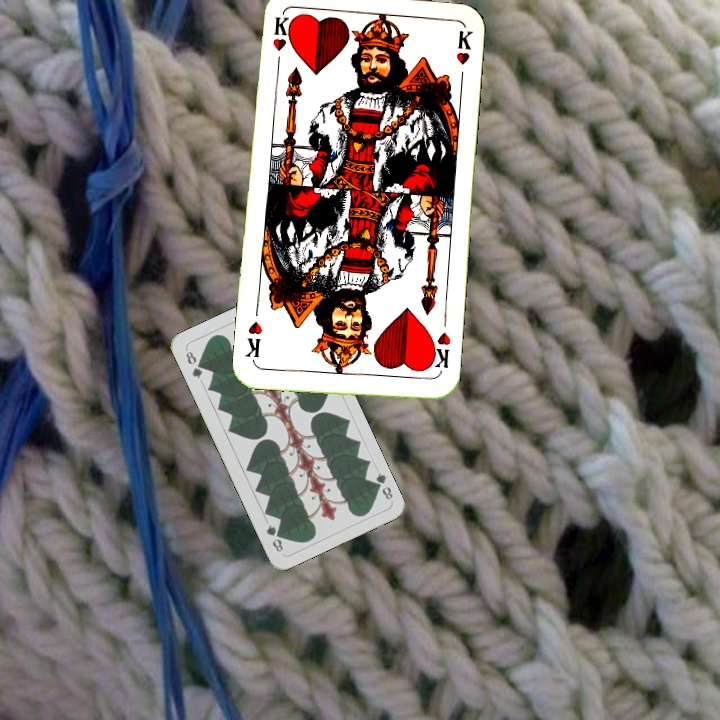G8: (369, 468, 395, 502), (182, 345, 205, 381)
HK: (268, 14, 291, 74), (425, 328, 453, 376)
